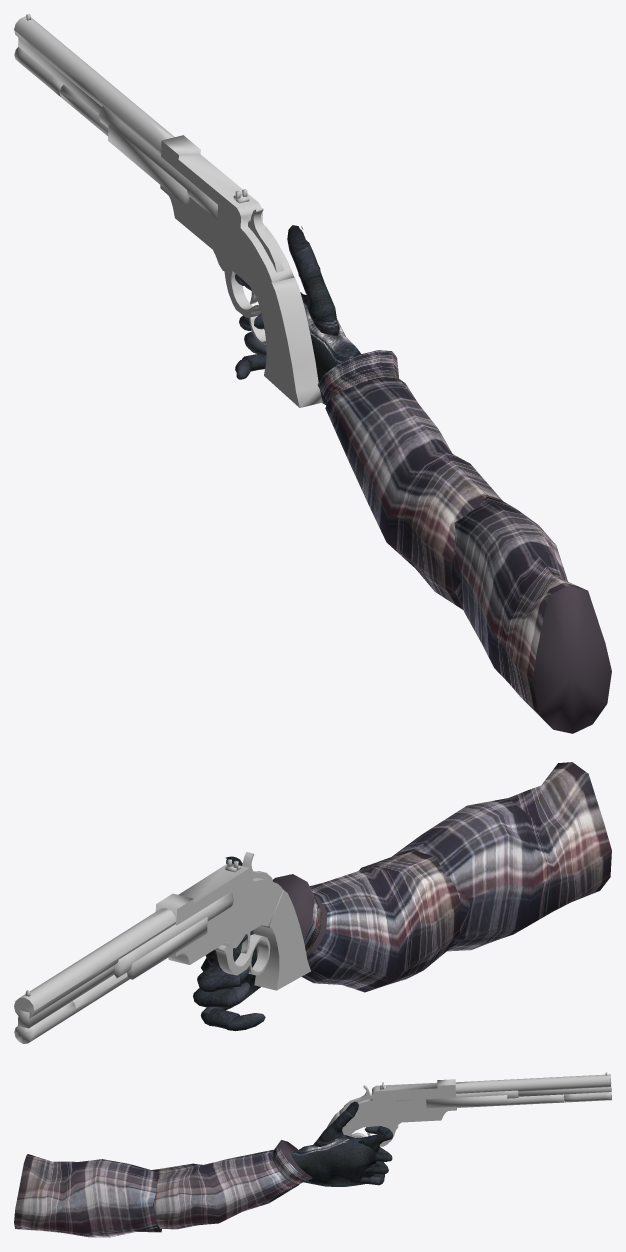
The model's file is volcanic_adsfire.fbx.
3 renders of one model, top to bottom at view 1: azimuth 30°, elevation 25°; view 2: azimuth 150°, elevation 25°; view 3: azimuth 270°, elevation 25°, orthographic. The views are drawn at different scales.
Visible parts, largest first — view 1: rupperarm, rforearm, volcanic_body, volcanic_barrel, volcanic_grip, M9Body, rhand, rthumbback, volcanic_lever; view 2: rupperarm, rforearm, volcanic_body, volcanic_barrel, volcanic_grip, M9Body, volcanic_lever, volcanic_magazinecap, rmfingermiddle, rifingermiddle, rhand, rpinkymiddle (+1 smaller); view 3: rupperarm, rforearm, volcanic_body, volcanic_barrel, rhand, M9Body, rthumbback, volcanic_magazinecap, rpfingerback.
Part boxes in pixels (x1=…): rupperarm: x1=454, y1=496, x2=611, y2=733; rforearm: x1=317, y1=350, x2=503, y2=609; volcanic_body: x1=160, y1=135, x2=294, y2=296; volcanic_barrel: x1=14, y1=16, x2=174, y2=153; volcanic_grip: x1=256, y1=276, x2=322, y2=407; M9Body: x1=98, y1=106, x2=217, y2=219; rhand: x1=303, y1=302, x2=361, y2=405; rthumbback: x1=300, y1=271, x2=339, y2=335; volcanic_lever: x1=224, y1=271, x2=266, y2=344; rupperarm: x1=392, y1=762, x2=611, y2=951; rforearm: x1=272, y1=850, x2=461, y2=992; volcanic_body: x1=155, y1=863, x2=283, y2=964; volcanic_barrel: x1=14, y1=908, x2=176, y2=1028; volcanic_grip: x1=253, y1=890, x2=310, y2=990; M9Body: x1=114, y1=891, x2=233, y2=979; volcanic_lever: x1=215, y1=934, x2=270, y2=975; volcanic_magazinecap: x1=14, y1=1001, x2=75, y2=1043; rmfingermiddle: x1=198, y1=969, x2=241, y2=991; rifingermiddle: x1=193, y1=988, x2=233, y2=1007; rhand: x1=201, y1=919, x2=299, y2=1009; rpinkymiddle: x1=201, y1=1008, x2=239, y2=1030; rupperarm: x1=14, y1=1154, x2=161, y2=1237; rforearm: x1=151, y1=1140, x2=312, y2=1229; volcanic_body: x1=339, y1=1079, x2=456, y2=1130; volcanic_barrel: x1=455, y1=1074, x2=611, y2=1107; rhand: x1=291, y1=1138, x2=377, y2=1186; M9Body: x1=397, y1=1090, x2=518, y2=1108; rthumbback: x1=313, y1=1120, x2=361, y2=1146; volcanic_magazinecap: x1=564, y1=1092, x2=611, y2=1102; rpfingerback: x1=358, y1=1130, x2=392, y2=1153.
Bounding box in the file's own units: 4.72 × 11.73 × 39.07.
